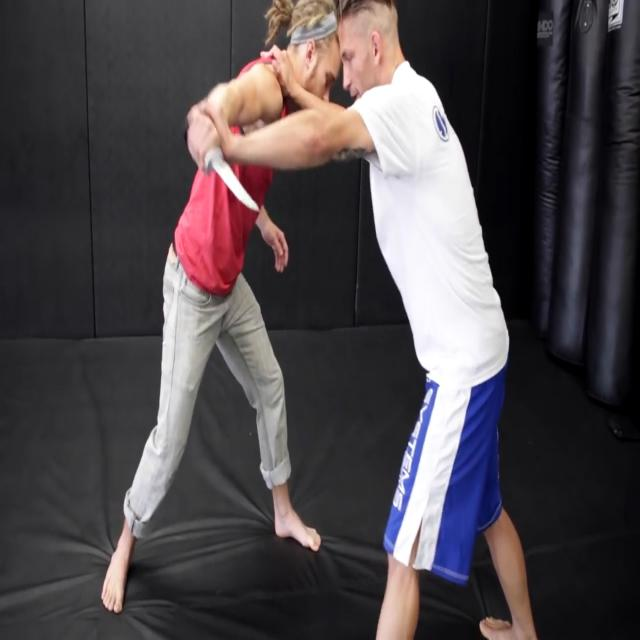knife: (208, 143, 264, 224)
